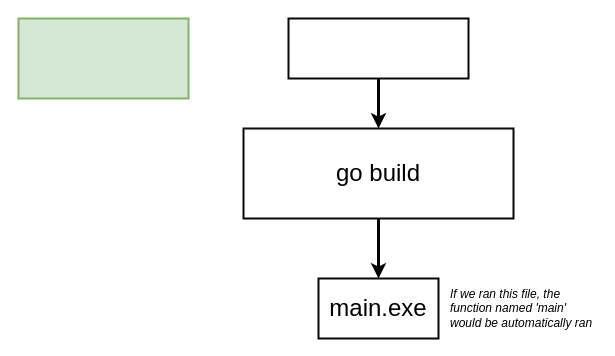
Some shapes in this 615 by 356 pixel diagram are drawn without their labels. The shapes that lost their labels are listed below. From the top down, each one's centre as x and y in pixels, then its label:
At point (103, 58): "What does ' package main ' mean?".
At point (378, 48): "package main".
